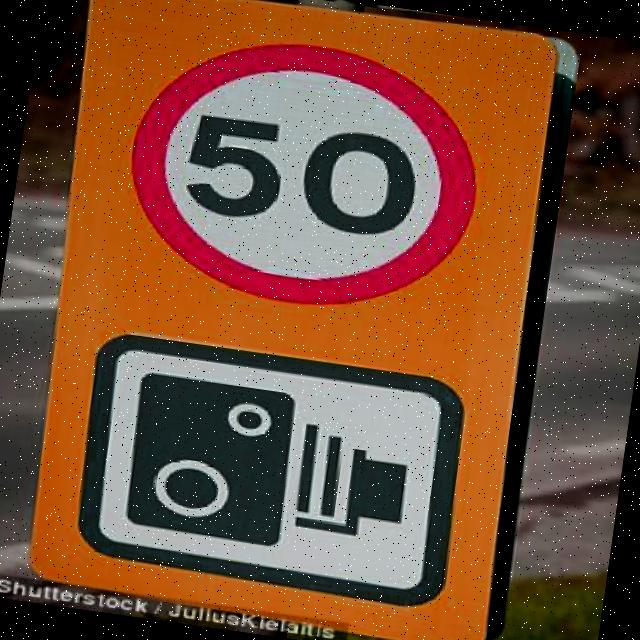Ograniczenie predkosci do 50: (116, 25, 494, 318)
